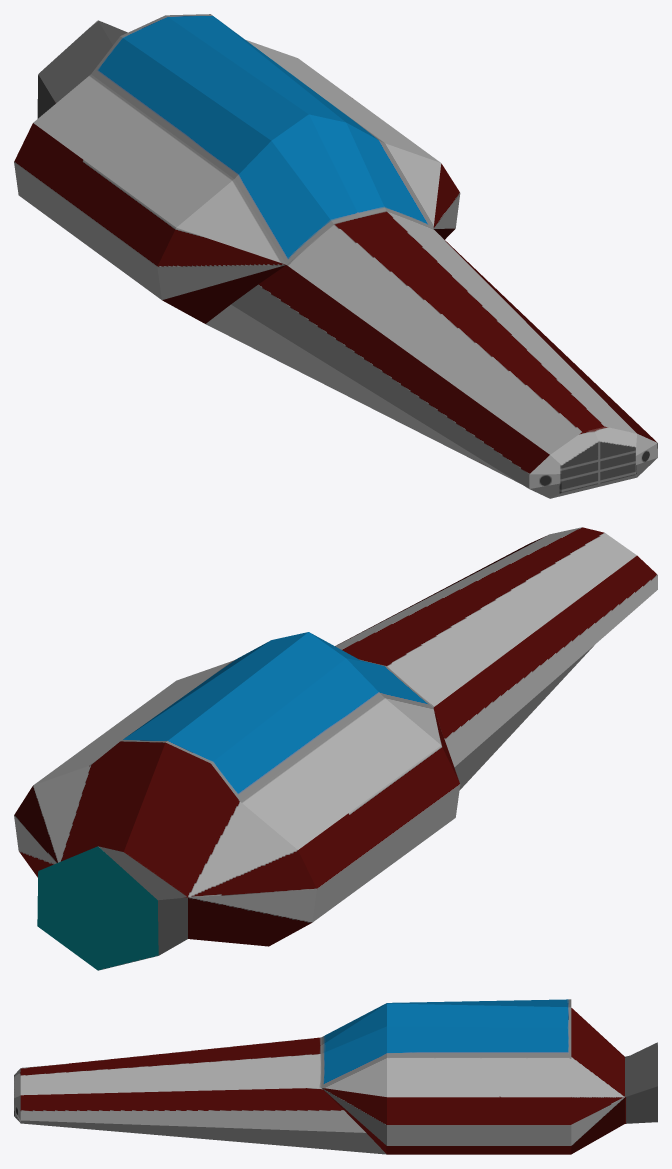
File: viper.fbx
3 renders of one model, top to bottom at view 1: azimuth 30°, elevation 25°; view 2: azimuth 150°, elevation 25°; view 3: azimuth 270°, elevation 25°, orthographic. The views are drawn at different scales.
Visible parts, largest first — view 1: Viper; view 2: Viper; view 3: Viper.
Boxes of the visible parts, bbox=[...] form: Viper: bbox=[14, 14, 657, 498]; Viper: bbox=[14, 527, 657, 970]; Viper: bbox=[14, 999, 657, 1154].
Size of the model in its own units: 2.44 by 1.42 by 6.99.
